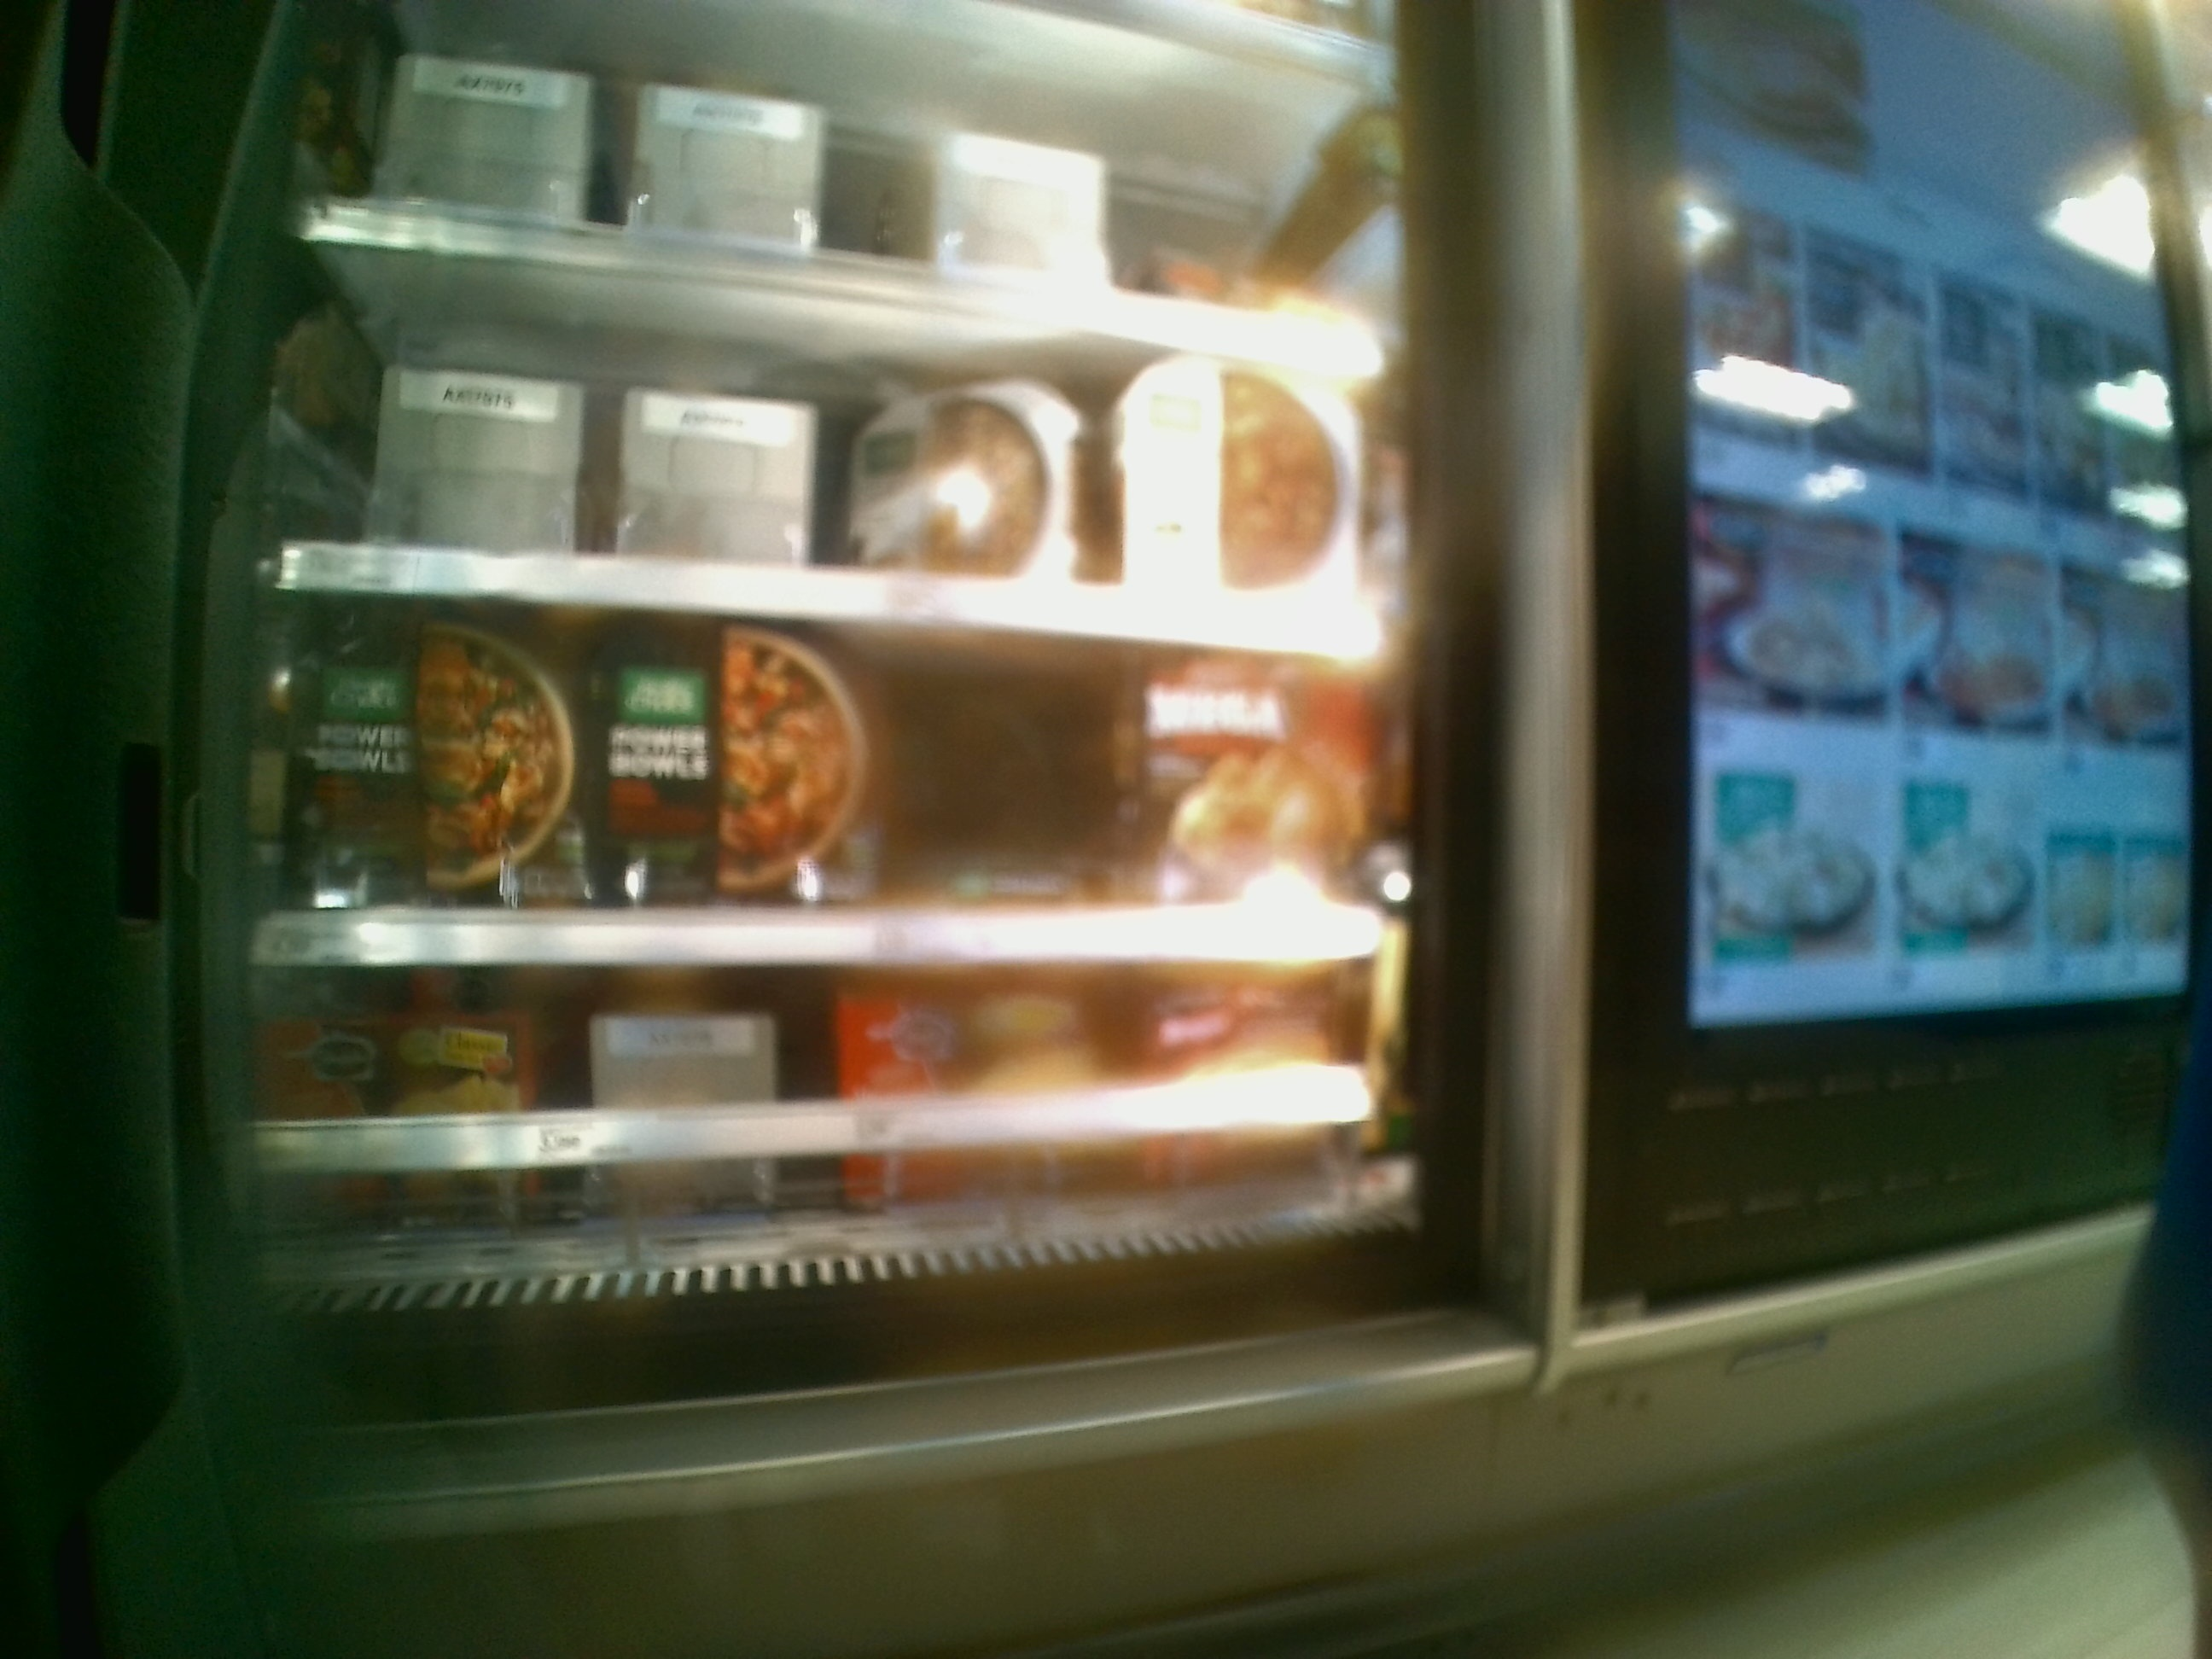shelf: (244, 586, 1400, 964), (251, 967, 1406, 1293)
